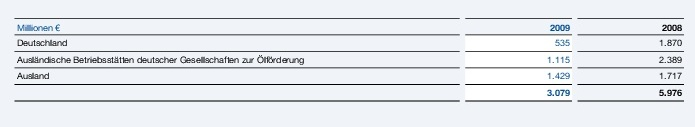table: (0, 0, 695, 127)
